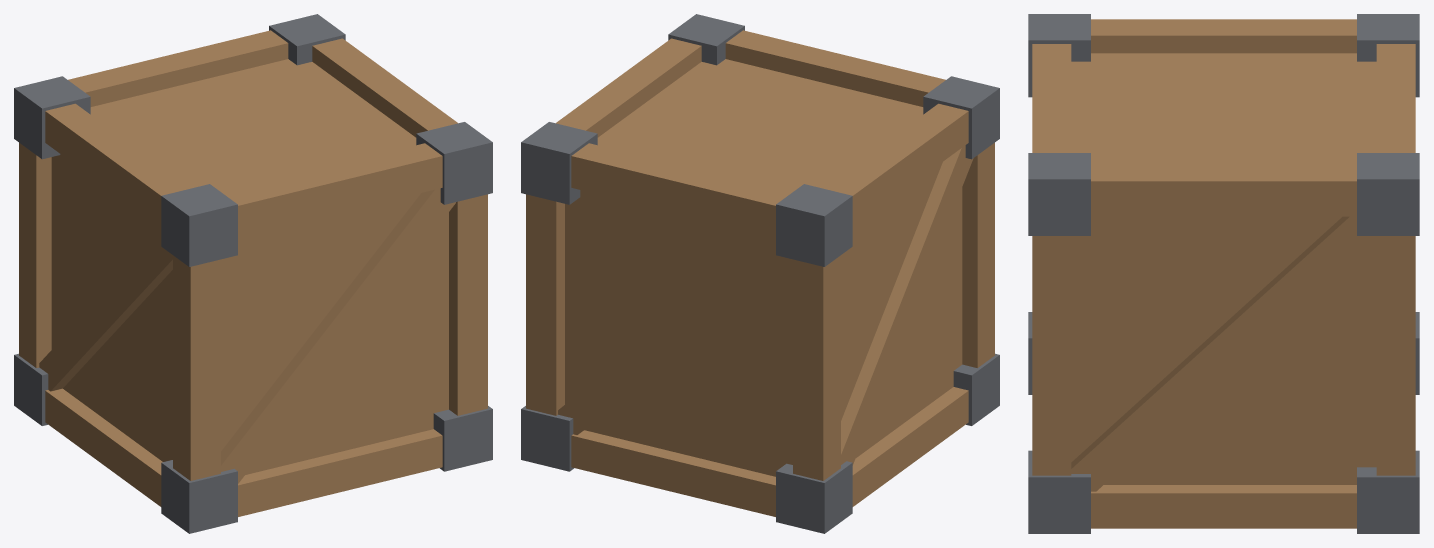
File: crate_01.glb
3 views of the same model, side by side, from view 1: azimuth 30°, elevation 25°; view 2: azimuth 150°, elevation 25°; view 3: azimuth 270°, elevation 25° (orthographic). The views are drawn at different scales.
Parts seen in each view (by area): view 1: Crate_01; view 2: Crate_01; view 3: Crate_01.
Boxes of the visible parts, x1,y1,x2,y2 form: Crate_01: (14, 14, 492, 533); Crate_01: (521, 14, 999, 533); Crate_01: (1028, 14, 1419, 533).
Size of the model in its own units: 1 by 1 by 1.
